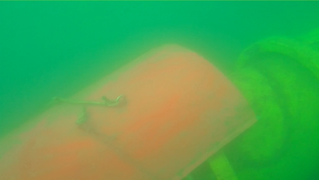leak: (1, 42, 257, 180)
pipe: (182, 27, 318, 180)
